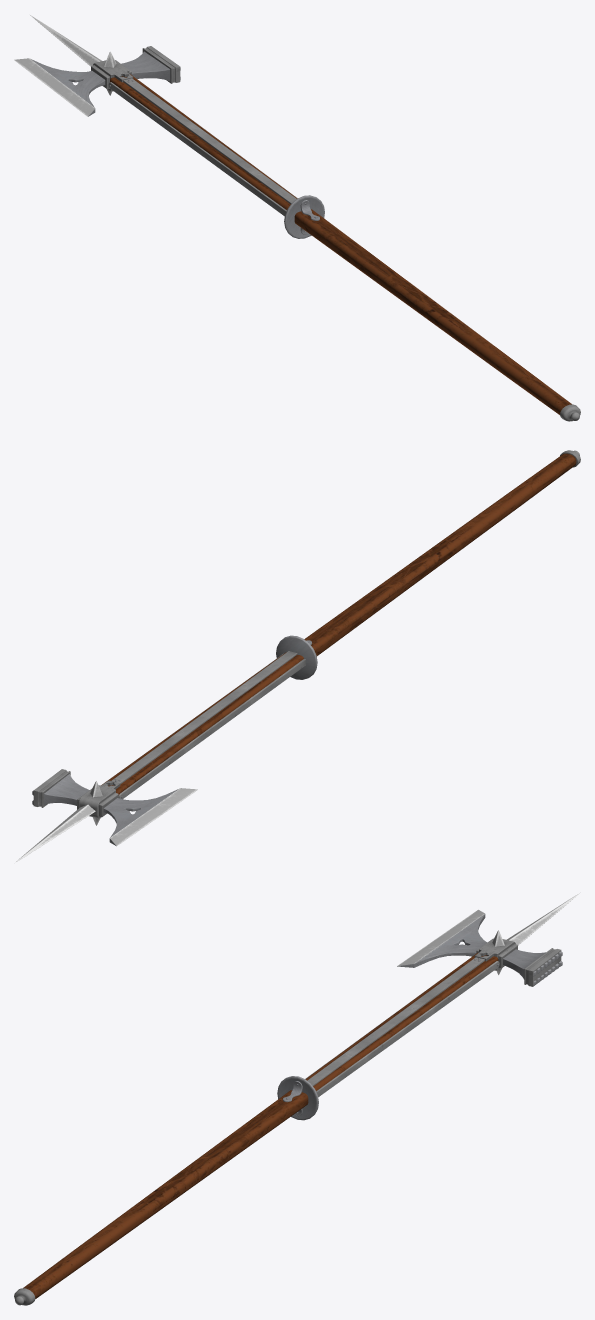
The model's file is polax.fbx.
3 views of the same model, one above another, from view 1: azimuth 30°, elevation 25°; view 2: azimuth 150°, elevation 25°; view 3: azimuth 330°, elevation 25° (orthographic).
Visible parts, largest first — view 1: g Knightly_Axe; view 2: g Knightly_Axe; view 3: g Knightly_Axe.
Part boxes in pixels (box(x1,y1,x2,y2)): g Knightly_Axe: box(14, 15, 580, 421); g Knightly_Axe: box(14, 450, 580, 863); g Knightly_Axe: box(14, 892, 580, 1305).
Size of the model in its own units: 28.91 by 10.78 by 241.
Materials: 1 (1 with a texture image).
